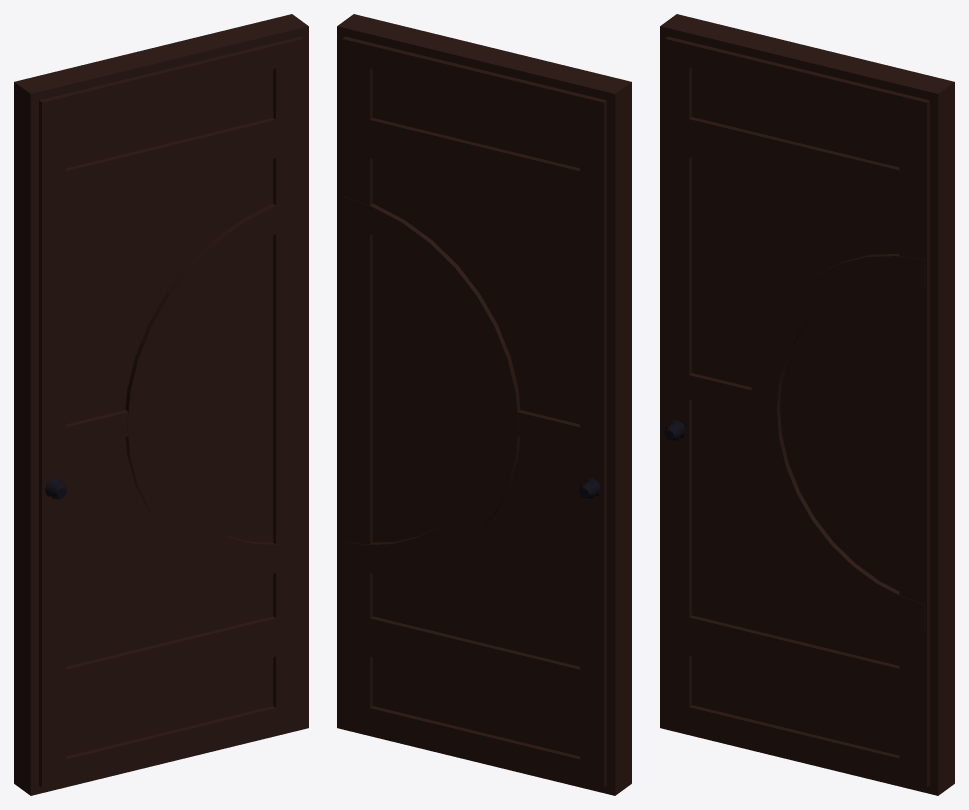
3 renders of one model, left to right at view 1: azimuth 30°, elevation 25°; view 2: azimuth 150°, elevation 25°; view 3: azimuth 330°, elevation 25°, orthographic.
Parts seen in each view (by area): view 1: Door_3_Cube.017; view 2: Door_3_Cube.017; view 3: Door_3_Cube.017.
Part boxes in pixels (x1,y1,x2,y2): Door_3_Cube.017: [14, 14, 308, 795]; Door_3_Cube.017: [337, 14, 631, 795]; Door_3_Cube.017: [660, 14, 954, 795].
Size of the model in its own units: 1.74 by 4.19 by 0.4159.
